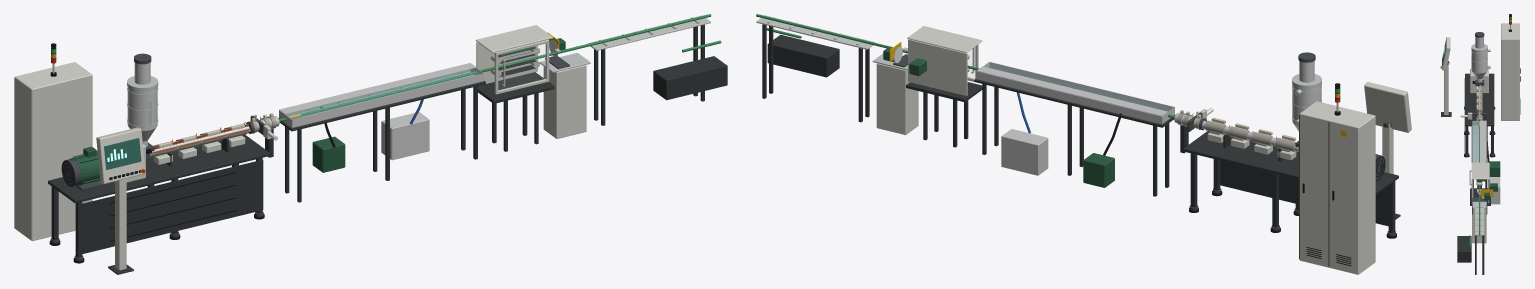
File: extrusion-motion.glb
The picture shows the model from 3 angles, left to right: view 1: azimuth 30°, elevation 25°; view 2: azimuth 150°, elevation 25°; view 3: azimuth 270°, elevation 25°; orthographic projection. The views are drawn at different scales.
Parts seen in each view (by area): view 1: Extruder, Control cabinet, CalibrationBath, HaulOffFrame, RunOutTable, SawBase, Operator panel head, Extruder hopper, Operator panel stand, AdapterAndDie; view 2: Control cabinet, CalibrationBath, Extruder, HaulOffFrame, RunOutTable, SawBase, Operator panel head, Extruder hopper, AdapterAndDie, Operator panel stand; view 3: Control cabinet, Extruder, CalibrationBath, RunOutTable, Extruder hopper, HaulOffFrame, SawBase, Operator panel stand, Operator panel head, SawCarriage_body, AdapterAndDie.
Part boxes in pixels (x1,y1,x2,y2): Extruder: (48,121,270,263); Control cabinet: (14,62,92,241); CalibrationBath: (278,63,485,202); HaulOffFrame: (475,25,554,151); RunOutTable: (588,15,727,125); SawBase: (540,53,590,138); Operator panel head: (96,127,145,183); Extruder hopper: (127,53,158,153); Operator panel stand: (108,178,133,274); AdapterAndDie: (250,113,279,157); Control cabinet: (1299,101,1375,274); CalibrationBath: (974,62,1175,196); Extruder: (1183,117,1398,238); HaulOffFrame: (906,26,982,147); RunOutTable: (756,15,875,122); SawBase: (872,53,918,135); Operator panel head: (1364,82,1411,132); Extruder hopper: (1292,52,1321,147); AdapterAndDie: (1174,107,1213,153); Operator panel stand: (1382,121,1400,219); Control cabinet: (1501,23,1520,120); Extruder: (1464,69,1495,157); CalibrationBath: (1471,120,1500,214); RunOutTable: (1457,204,1484,274); Extruder hopper: (1471,32,1490,85); HaulOffFrame: (1469,162,1497,205); SawBase: (1472,201,1486,243); Operator panel stand: (1441,61,1451,116); Operator panel head: (1440,37,1450,70); SawCarriage_body: (1472,189,1493,201); AdapterAndDie: (1460,109,1486,120).
Size of the model in its own units: 8.62 by 2.29 by 1.69.
